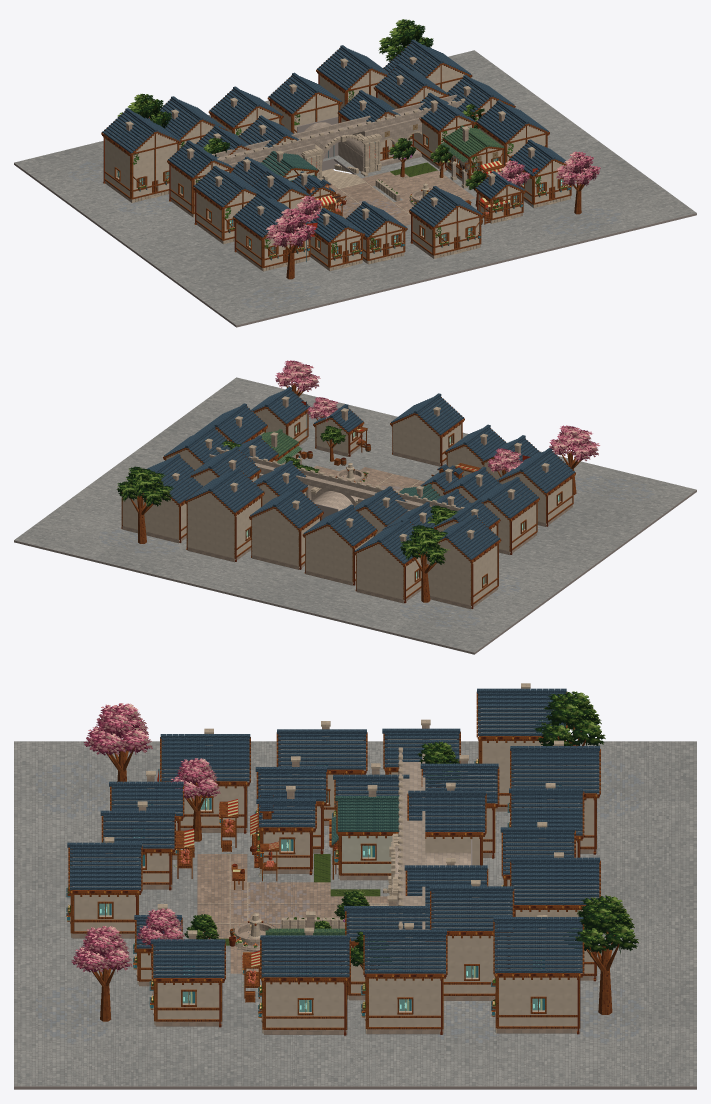
Rendered from orchard.glb.
3 renders of one model, top to bottom at view 1: azimuth 30°, elevation 25°; view 2: azimuth 150°, elevation 25°; view 3: azimuth 270°, elevation 25°, orthographic. The views are drawn at different scales.
Parts seen in each view (by area): view 1: Backstreet_Setts, TownBatch_Lane_Slate, TownBatch_Lane_Plaster, TownBatch_Lane_Wood, TownBatch_Lane_Stone, TownBatch_Lane_CanalMasonry, Lane_Ground, TownBatch_Lane_Mortar, TownBatch_Lane_Masonry, Market_Copper, canopy_scenery_04, canopy_scenery_07 (+7 smaller); view 2: Backstreet_Setts, TownBatch_Lane_Slate, TownBatch_Lane_Plaster, TownBatch_Lane_Wood, TownBatch_Lane_Masonry, TownBatch_Lane_CanalMasonry, TownBatch_Lane_Mortar, Market_Copper, canopy_scenery_07, TownBatch_Lane_Stone, canopy_scenery_06, canopy_scenery_04 (+5 smaller); view 3: Backstreet_Setts, TownBatch_Lane_Slate, TownBatch_Lane_Plaster, TownBatch_Lane_Wood, Lane_Ground, TownBatch_Lane_Masonry, Market_Copper, TownBatch_Lane_Stone, TownBatch_Lane_CanalMasonry, TownBatch_Lane_Mortar, canopy_scenery_06, canopy_scenery_07 (+11 smaller).
Boxes of the visible parts, x1=… form: Backstreet_Setts: x1=14, y1=50, x2=696, y2=325; TownBatch_Lane_Slate: x1=102, y1=39, x2=565, y2=242; TownBatch_Lane_Plaster: x1=105, y1=44, x2=569, y2=265; TownBatch_Lane_Wood: x1=101, y1=43, x2=571, y2=267; TownBatch_Lane_Stone: x1=125, y1=56, x2=569, y2=271; TownBatch_Lane_CanalMasonry: x1=212, y1=94, x2=466, y2=185; Lane_Ground: x1=328, y1=170, x2=475, y2=225; TownBatch_Lane_Mortar: x1=14, y1=116, x2=696, y2=327; TownBatch_Lane_Masonry: x1=104, y1=60, x2=570, y2=270; Market_Copper: x1=101, y1=70, x2=570, y2=254; canopy_scenery_04: x1=266, y1=208, x2=316, y2=247; canopy_scenery_07: x1=378, y1=19, x2=433, y2=61; Backstreet_Setts: x1=14, y1=377, x2=696, y2=652; TownBatch_Lane_Slate: x1=147, y1=386, x2=574, y2=563; TownBatch_Lane_Plaster: x1=122, y1=408, x2=572, y2=605; TownBatch_Lane_Wood: x1=121, y1=390, x2=575, y2=605; TownBatch_Lane_Masonry: x1=122, y1=399, x2=572, y2=609; TownBatch_Lane_CanalMasonry: x1=209, y1=449, x2=460, y2=521; TownBatch_Lane_Mortar: x1=14, y1=490, x2=696, y2=654; Market_Copper: x1=121, y1=409, x2=575, y2=608; canopy_scenery_07: x1=116, y1=466, x2=173, y2=507; TownBatch_Lane_Stone: x1=172, y1=396, x2=573, y2=588; canopy_scenery_06: x1=400, y1=525, x2=449, y2=565; canopy_scenery_04: x1=549, y1=425, x2=600, y2=461; Backstreet_Setts: x1=14, y1=741, x2=696, y2=1086; TownBatch_Lane_Slate: x1=67, y1=688, x2=599, y2=977; TownBatch_Lane_Plaster: x1=73, y1=708, x2=596, y2=1027; TownBatch_Lane_Wood: x1=67, y1=691, x2=600, y2=1029; Lane_Ground: x1=197, y1=854, x2=388, y2=973; TownBatch_Lane_Masonry: x1=72, y1=708, x2=596, y2=1034; Market_Copper: x1=66, y1=737, x2=599, y2=1035; TownBatch_Lane_Stone: x1=70, y1=683, x2=563, y2=1033; TownBatch_Lane_CanalMasonry: x1=394, y1=752, x2=470, y2=1000; TownBatch_Lane_Mortar: x1=14, y1=839, x2=696, y2=1089; canopy_scenery_06: x1=534, y1=691, x2=605, y2=747; canopy_scenery_07: x1=563, y1=895, x2=638, y2=956.
Size of the model in its own units: 49 by 9.03 by 41.
Materials: 39 (30 with a texture image).
